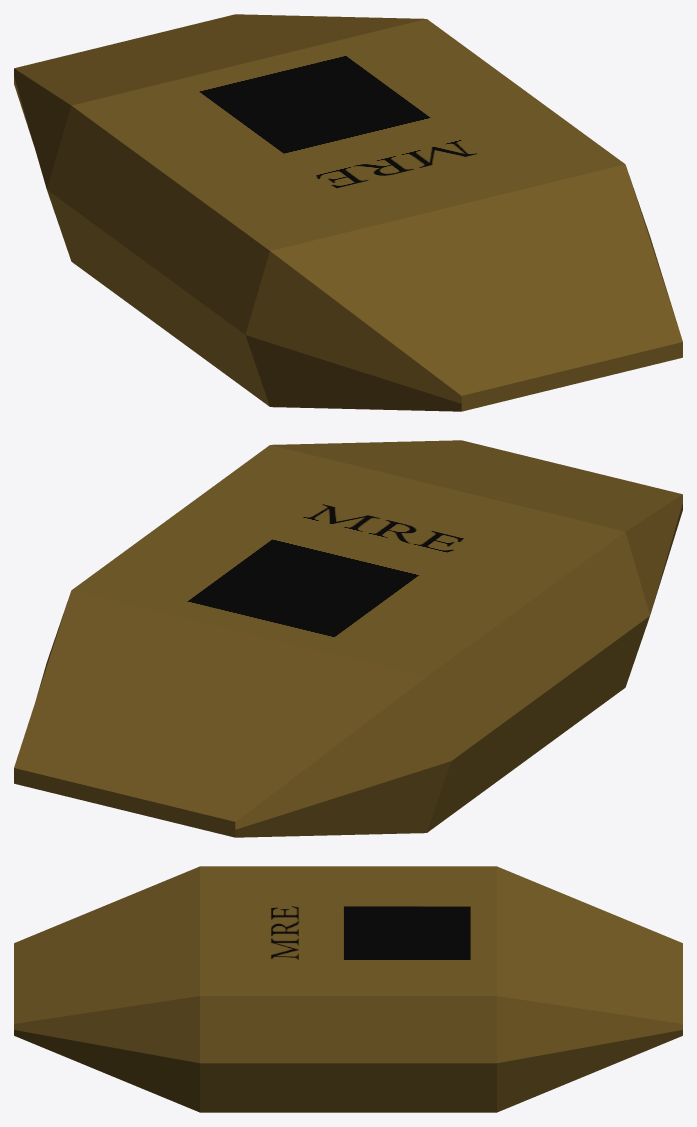
The model's file is MRE.fbx.
The picture shows the model from 3 angles, top to bottom: view 1: azimuth 30°, elevation 25°; view 2: azimuth 150°, elevation 25°; view 3: azimuth 270°, elevation 25°; orthographic projection. The views are drawn at different scales.
Visible parts, largest first — view 1: Cube; view 2: Cube; view 3: Cube.
Part boxes in pixels (x1,y1,x2,y2): Cube: (14, 14, 682, 411); Cube: (14, 440, 682, 837); Cube: (14, 866, 682, 1112).
Size of the model in its own units: 543 by 200 by 1040.
Materials: 1 (1 with a texture image).
